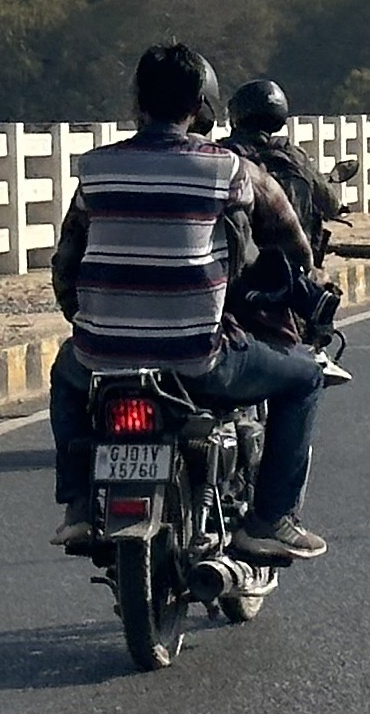BikeWithRider: (34, 30, 364, 679)
Helmet: (218, 70, 298, 146)
NoHelmet: (118, 32, 226, 145)
